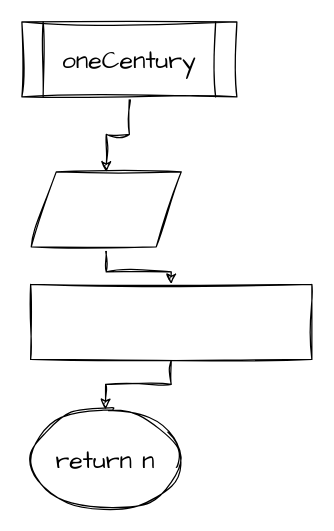
The diagram is 334 pixels wide and 531 high, and some of its shapes have lost their labels. The centre of each missing label's shape, as x and y in pixels:
"input n" belongs at (x=105, y=209).
"n*60*60*24*365*100" belongs at (x=170, y=321).
